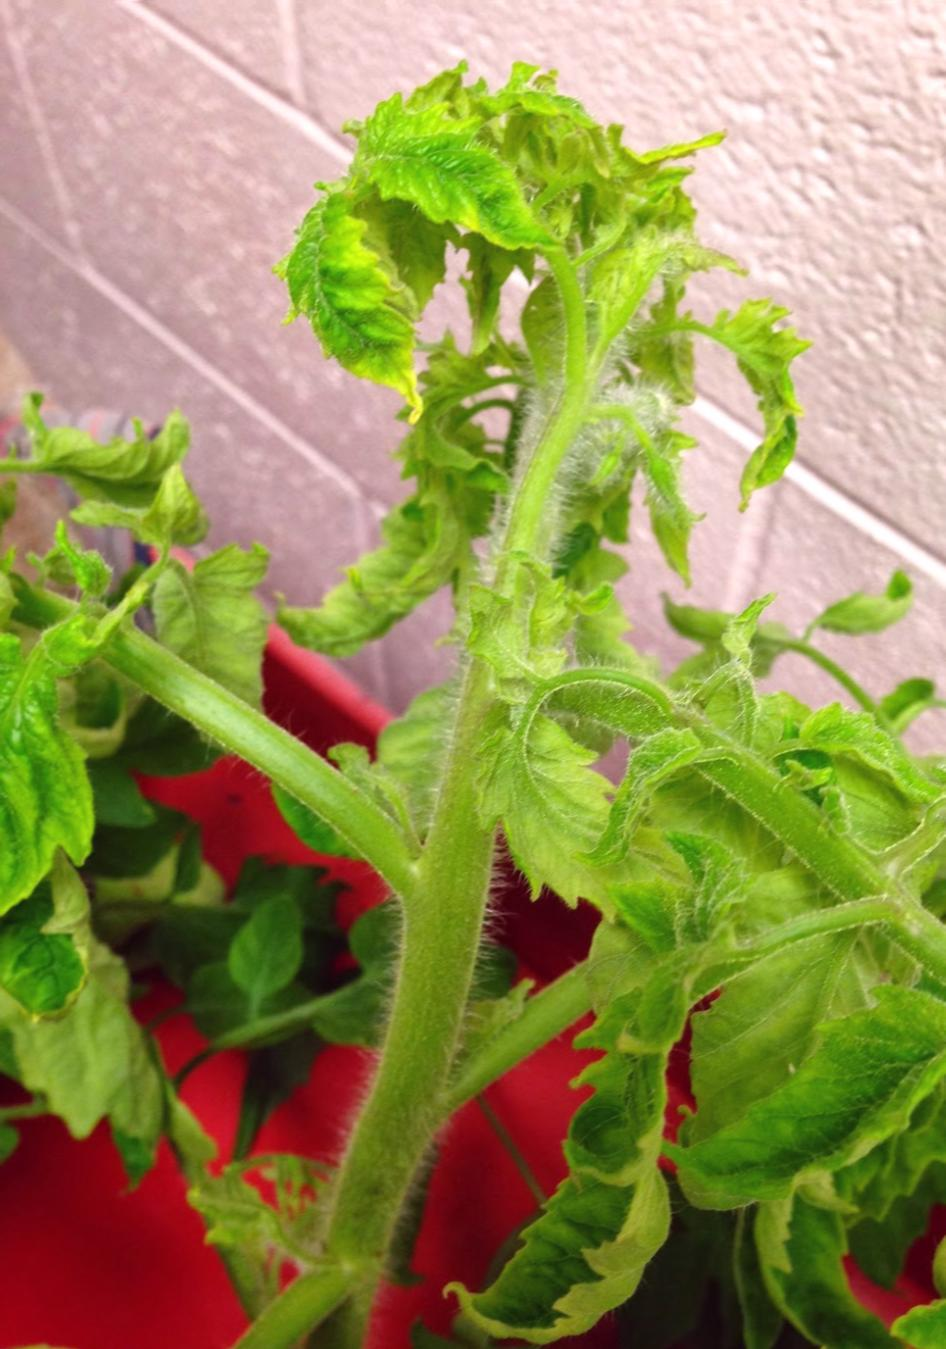Tomato leaf yellow virus: (455, 945, 702, 1349), (684, 975, 946, 1231), (268, 187, 450, 456), (480, 686, 674, 916), (0, 590, 121, 958), (366, 69, 573, 282)
